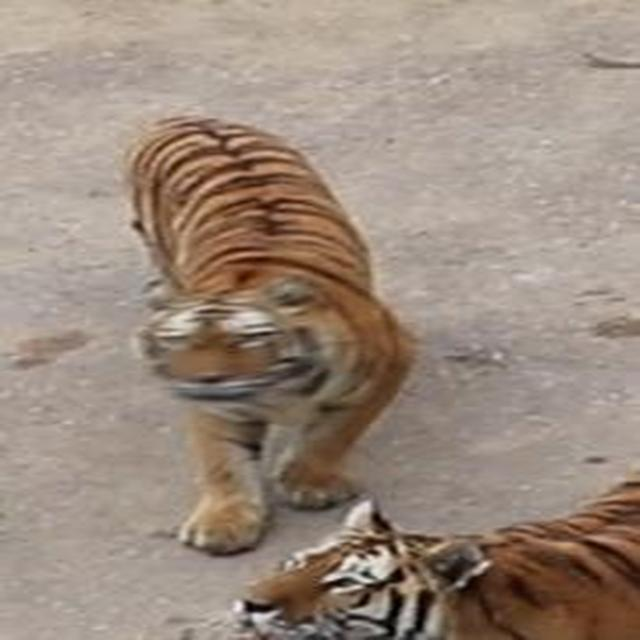tiger: (120, 111, 419, 556), (224, 464, 639, 639)
